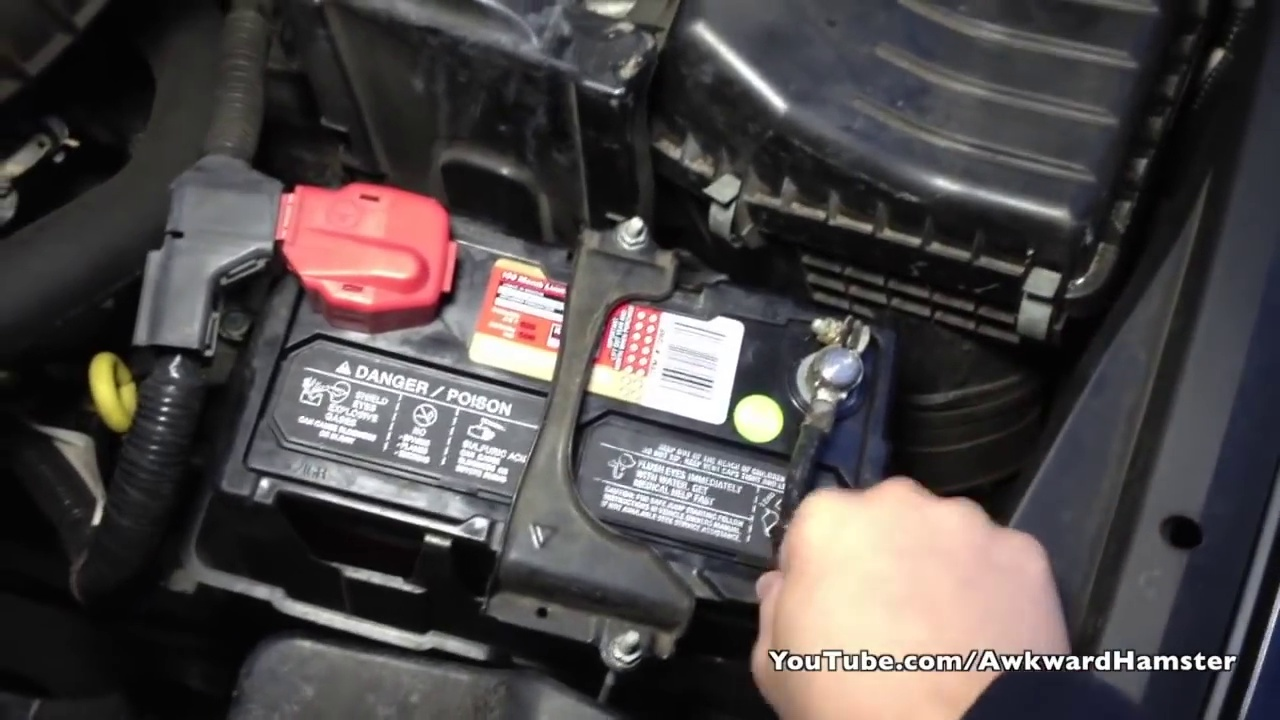battery: (228, 191, 887, 628)
neg_connected: (778, 297, 881, 470)
pos_connected: (251, 159, 446, 332)
